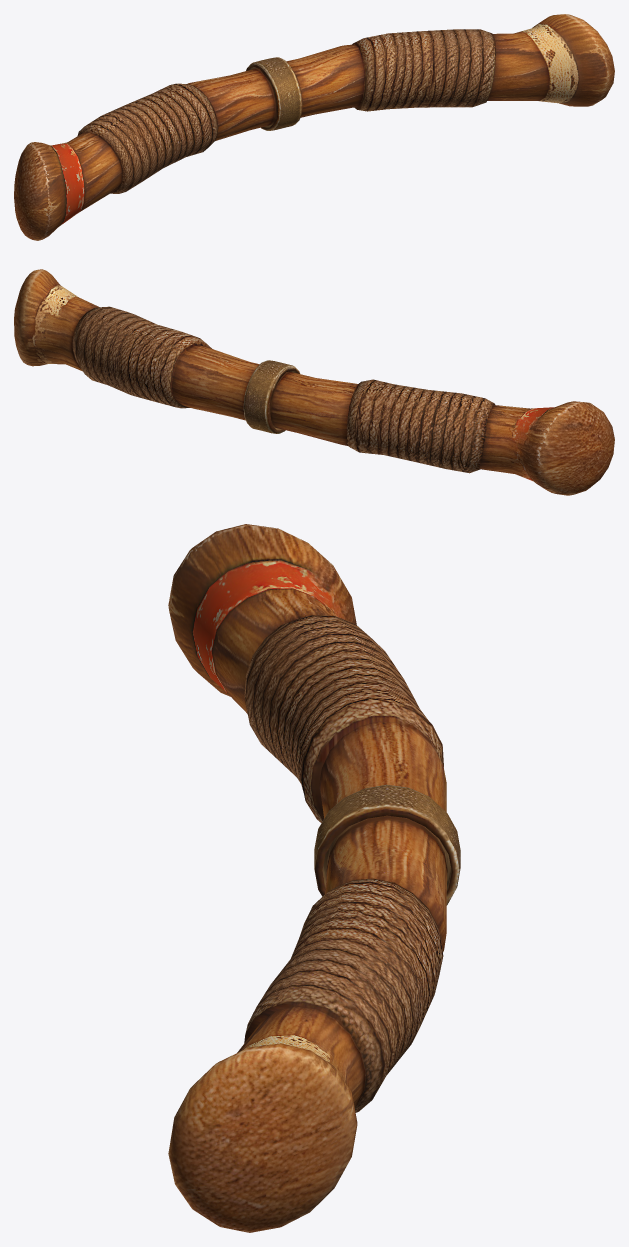
The model's file is control-bar.glb.
3 views of the same model, one above another, from view 1: azimuth 30°, elevation 25°; view 2: azimuth 150°, elevation 25°; view 3: azimuth 270°, elevation 25° (orthographic). The views are drawn at different scales.
Parts seen in each view (by area): view 1: tripo_node_098068d0-313e-4f4b-8750-5321afdb3346; view 2: tripo_node_098068d0-313e-4f4b-8750-5321afdb3346; view 3: tripo_node_098068d0-313e-4f4b-8750-5321afdb3346.
Part boxes in pixels (<box>): tripo_node_098068d0-313e-4f4b-8750-5321afdb3346: <box>14,14,614,240</box>; tripo_node_098068d0-313e-4f4b-8750-5321afdb3346: <box>14,269,614,495</box>; tripo_node_098068d0-313e-4f4b-8750-5321afdb3346: <box>168,524,460,1232</box>.
Size of the model in its own units: 0.9995 by 0.1431 by 0.2153.
Materials: 1 (1 with a texture image).
